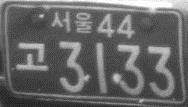1: (92, 40, 110, 95)
3: (145, 45, 175, 97), (115, 42, 144, 95), (57, 40, 85, 93)
4: (115, 11, 135, 39), (96, 11, 116, 38)
고: (14, 40, 50, 72)
서울_O: (49, 10, 93, 34)
